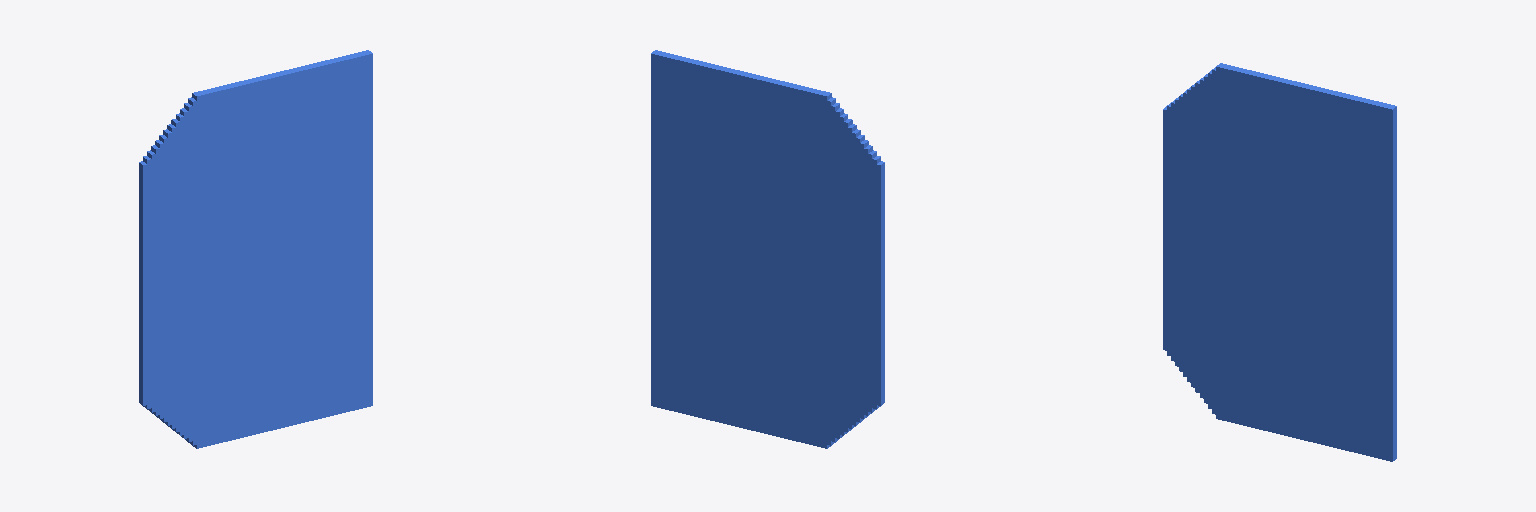
The picture shows the model from 3 angles: view 1: azimuth 30°, elevation 25°; view 2: azimuth 150°, elevation 25°; view 3: azimuth 330°, elevation 25°; orthographic projection.
Parts seen in each view (by area): view 1: GlassDoor; view 2: GlassDoor; view 3: GlassDoor.
Part boxes in pixels (bbox=[...]): GlassDoor: bbox=[139, 50, 372, 448]; GlassDoor: bbox=[651, 50, 884, 448]; GlassDoor: bbox=[1163, 63, 1396, 461].
Size of the model in its own units: 56 by 82 by 2.
Materials: 1 (1 with a texture image).